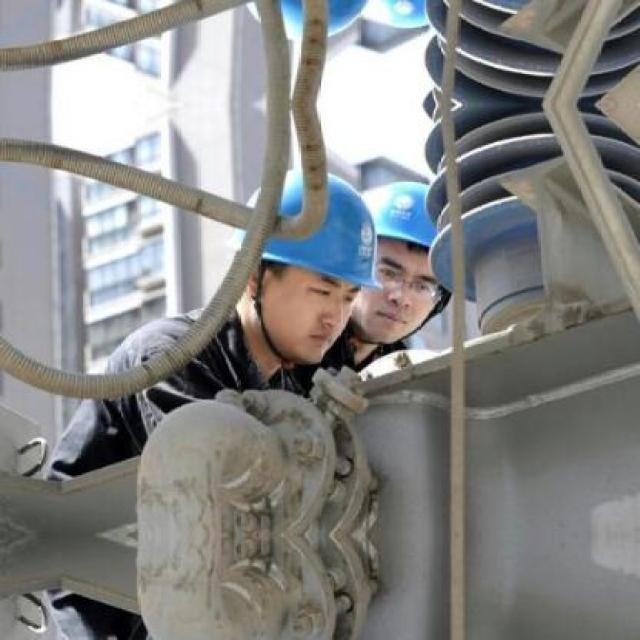helmet: (252, 170, 382, 371), (354, 160, 437, 335), (252, 0, 383, 40), (353, 0, 438, 49)
